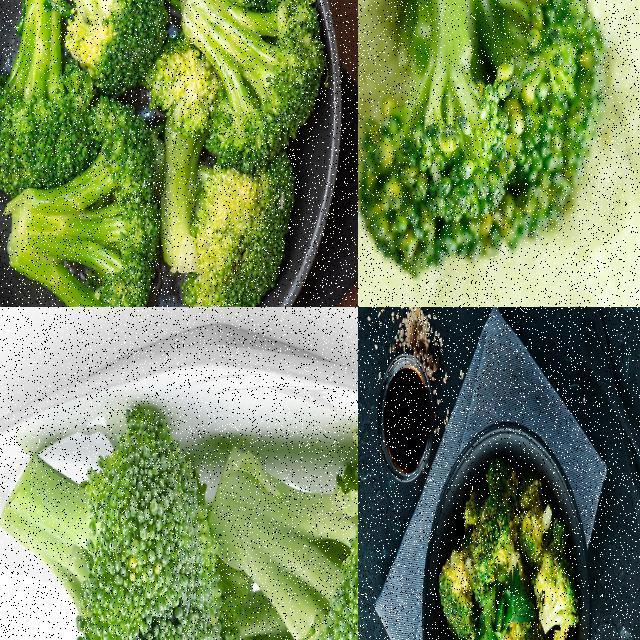broccoli: (358, 0, 611, 279), (0, 391, 224, 639), (0, 100, 165, 306), (209, 419, 357, 639), (174, 0, 321, 169), (0, 0, 102, 196), (174, 148, 300, 306), (31, 0, 171, 101), (466, 487, 514, 607), (532, 540, 584, 639), (437, 544, 482, 639), (520, 477, 558, 563)
